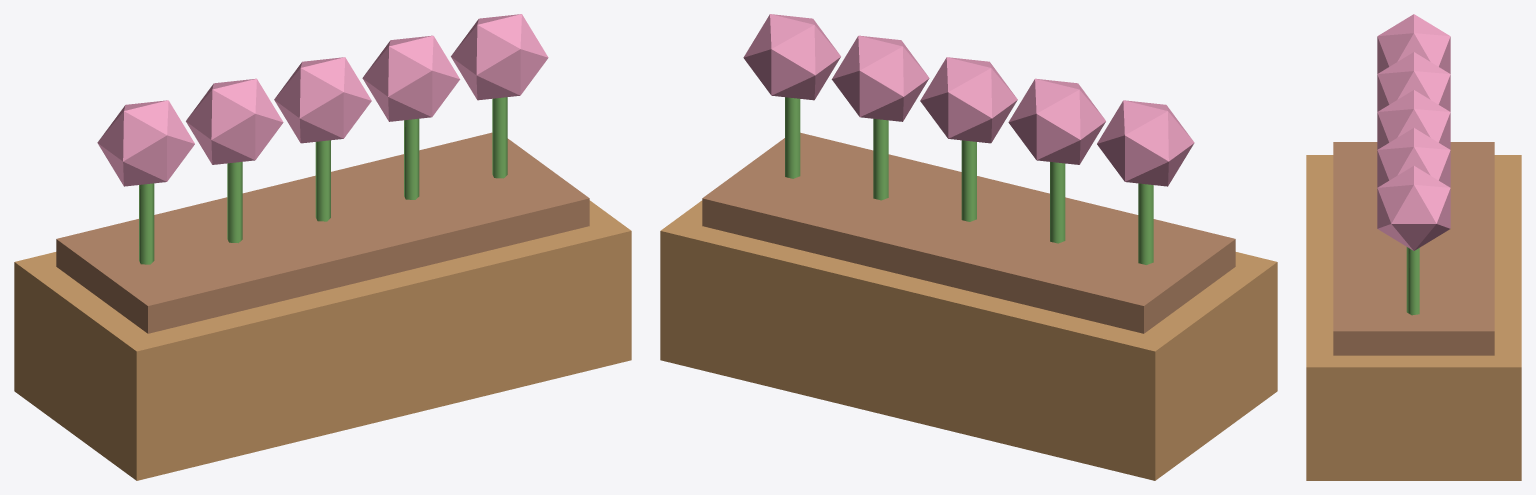
The model's file is flowerBox.glb.
The picture shows the model from 3 angles, left to right: view 1: azimuth 30°, elevation 25°; view 2: azimuth 150°, elevation 25°; view 3: azimuth 270°, elevation 25°; orthographic projection. The views are drawn at different scales.
Size of the model in its own units: 1.4 by 0.8471 by 0.6.
